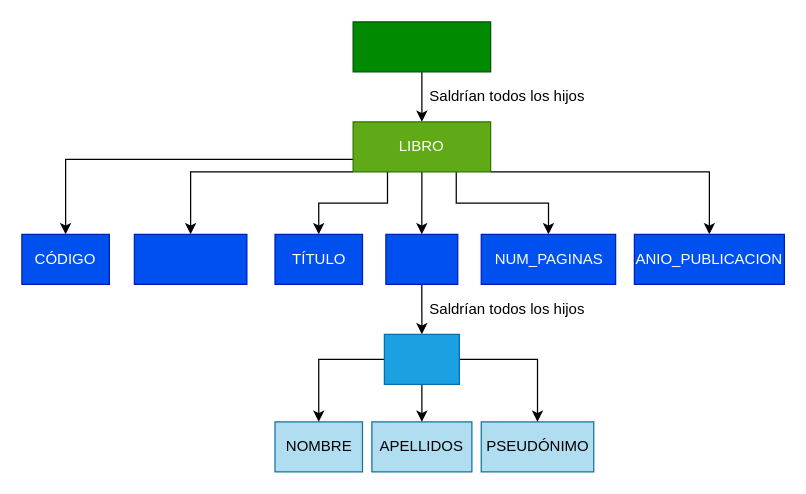
Some shapes in this 806 by 494 pixel diagram are drawn without their labels. The centre of each missing label's shape, as x and y in pixels:
"AUTOR" belongs at (421,358).
"AUTORES" belongs at (421,258).
"CATEGORÍA" belongs at (190,258).
"LIBROS" belongs at (421,46).
